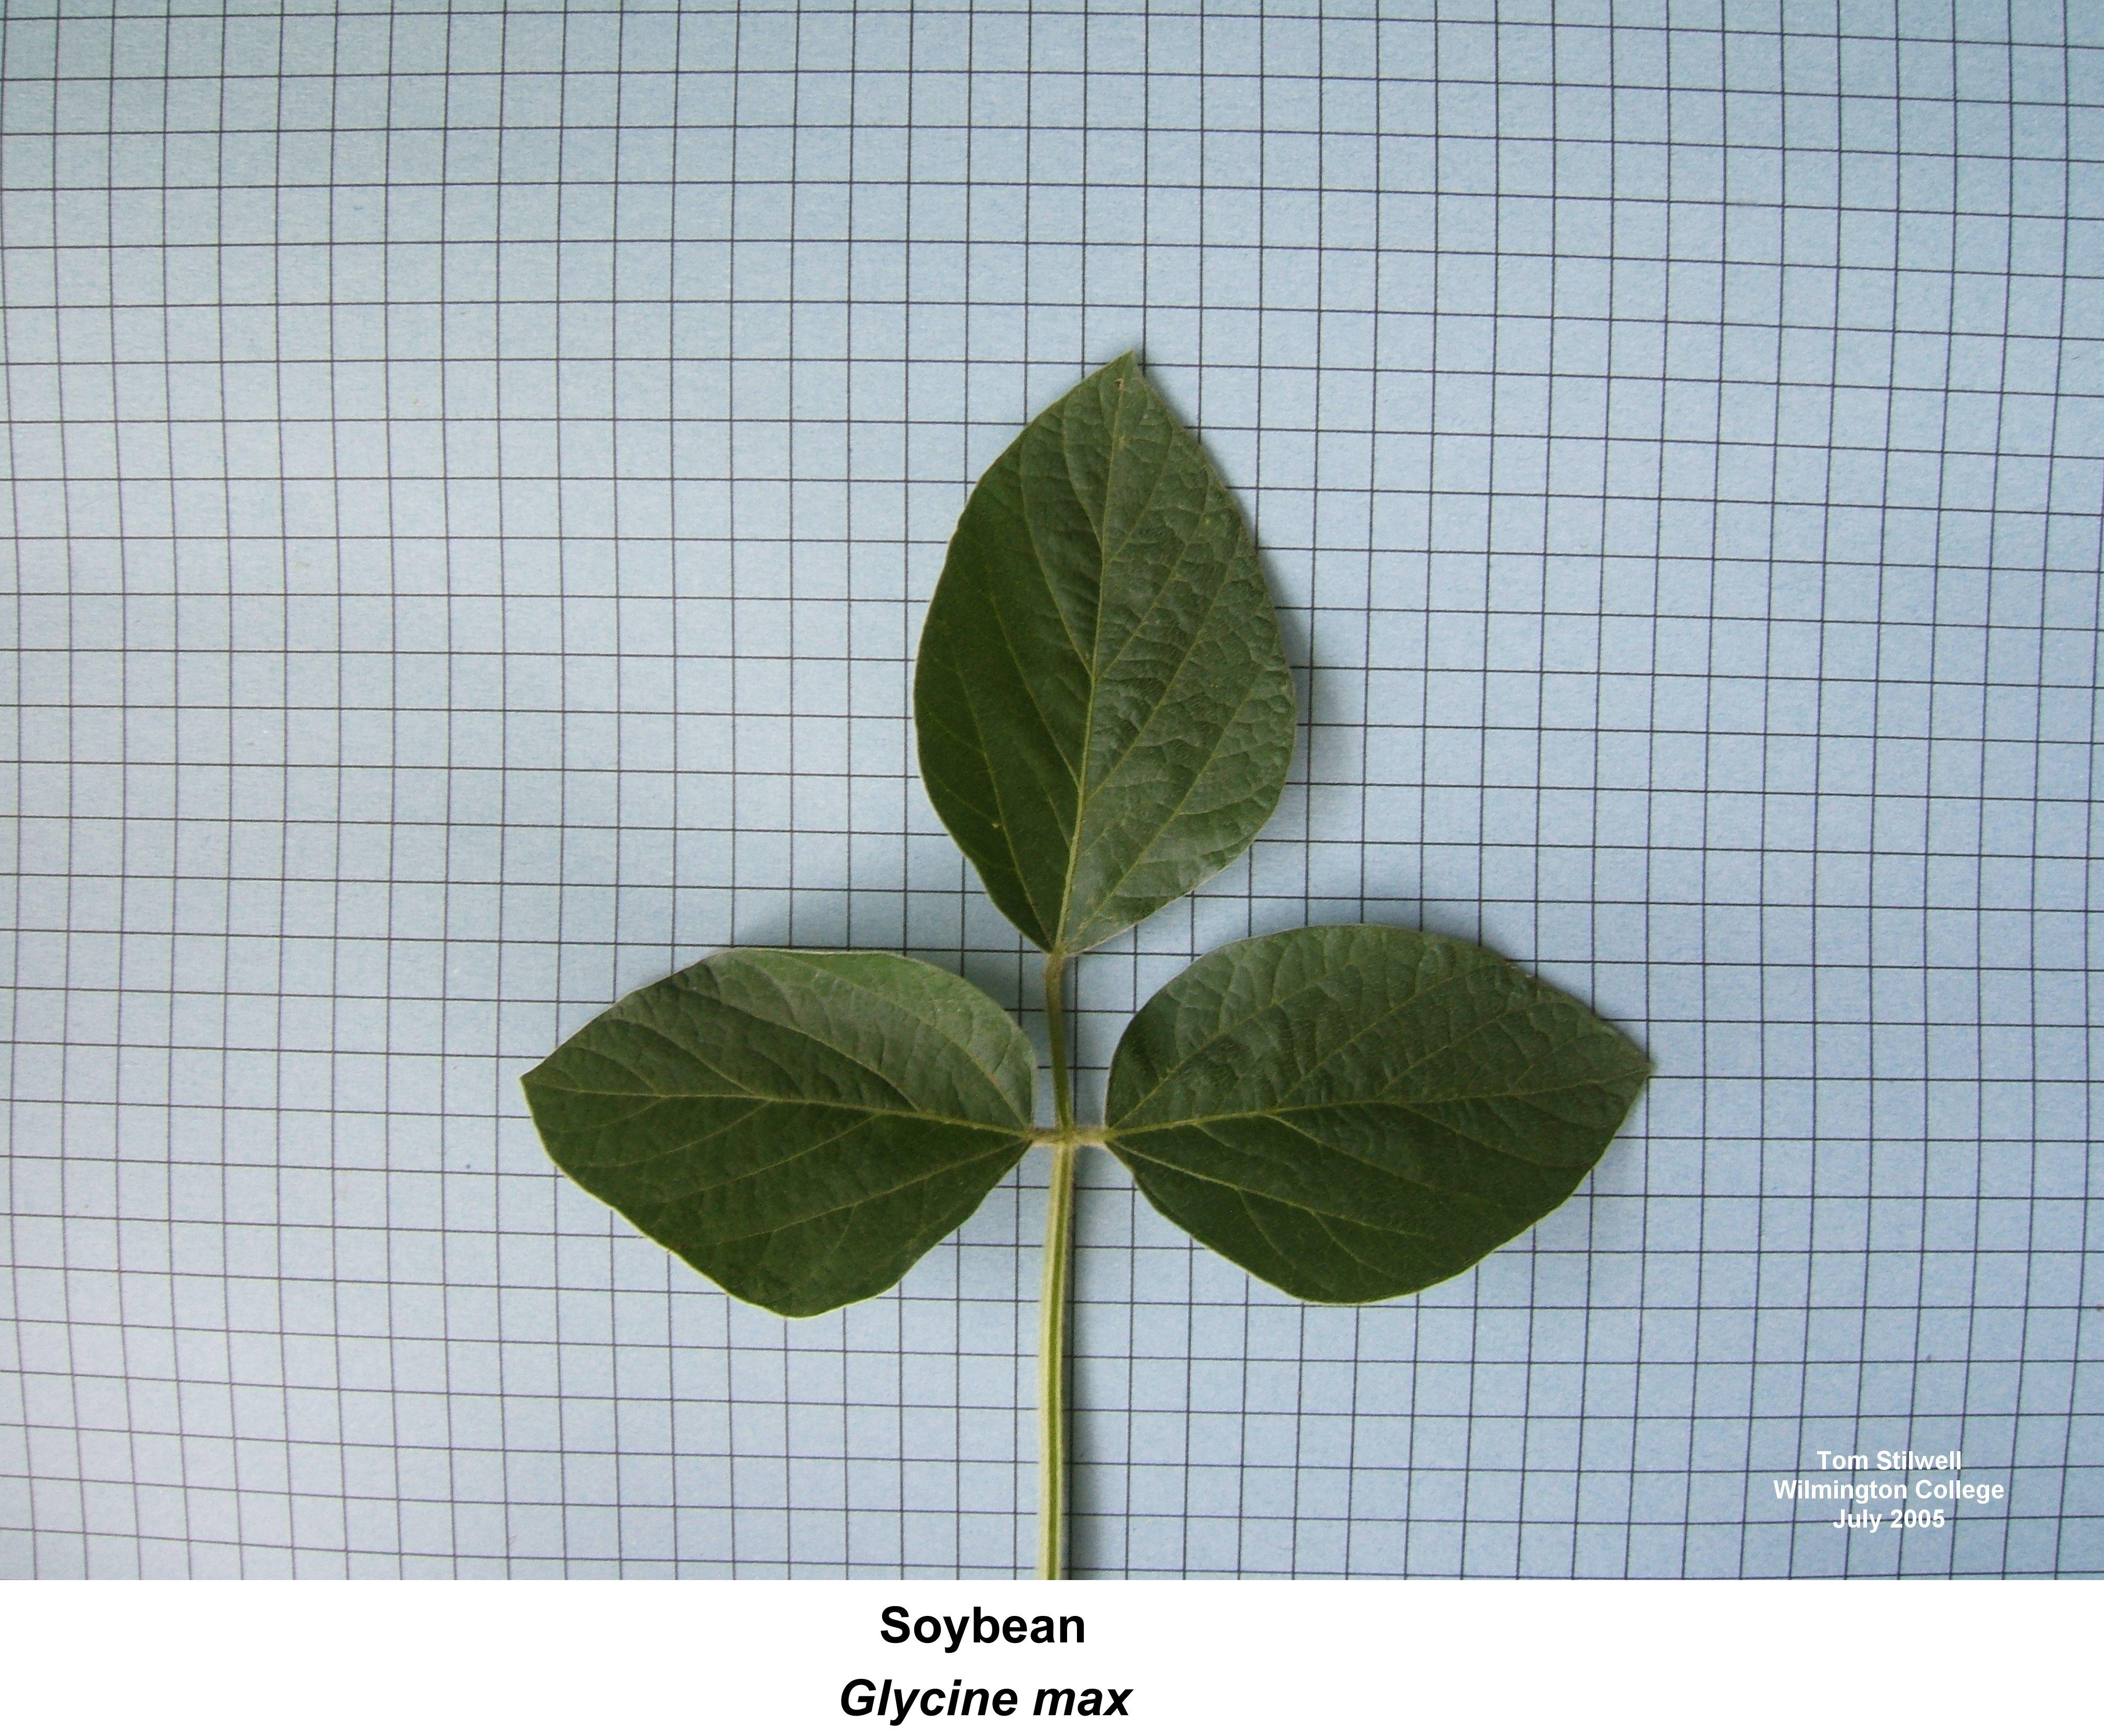Soyabean leaf: (905, 322, 1309, 951), (1103, 927, 1660, 1301), (514, 942, 1045, 1327)
